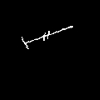treble_crochet: (22, 26, 72, 48)
